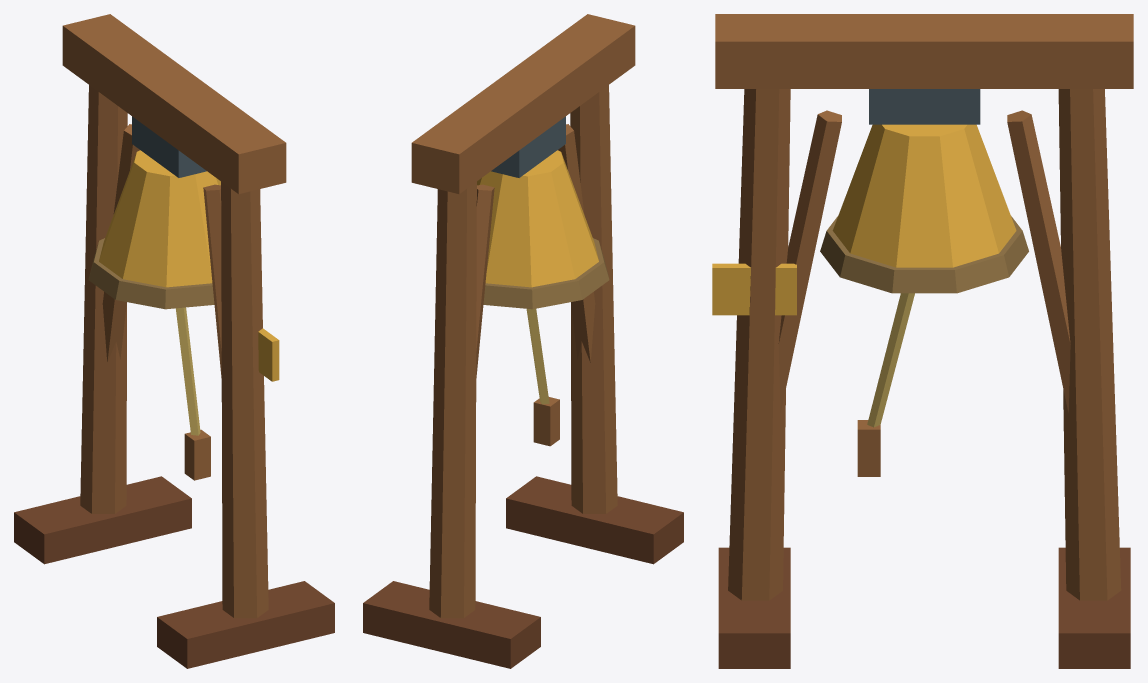
The model's file is ship_departure_bell.glb.
The picture shows the model from 3 angles, left to right: view 1: azimuth 30°, elevation 25°; view 2: azimuth 150°, elevation 25°; view 3: azimuth 270°, elevation 25°; orthographic projection. The views are drawn at different scales.
Visible parts, largest first — view 1: Bell_Post_1, Bell_Beam, Bell_Post_2, Bell_Body, Bell_Sill_1, Bell_Sill_2, Bell_Lip, Bell_Brace_2, Bell_Brace_1, Bell_Yoke, Bell_Pull, Bell_Toggle (+1 smaller); view 2: Bell_Post_2, Bell_Beam, Bell_Post_1, Bell_Body, Bell_Sill_2, Bell_Sill_1, Bell_Lip, Bell_Brace_1, Bell_Brace_2, Bell_Yoke, Bell_Toggle, Bell_Pull; view 3: Bell_Beam, Bell_Post_2, Bell_Post_1, Bell_Body, Bell_Brace_2, Bell_Sill_1, Bell_Sill_2, Bell_Lip, Bell_Brace_1, Bell_Yoke, Bell_Plaque, Bell_Pull (+1 smaller).
Boxes of the visible parts, <box> form: Bell_Post_1: <box>221,181,268,618</box>; Bell_Beam: <box>62,14,286,194</box>; Bell_Post_2: <box>80,85,127,513</box>; Bell_Body: <box>99,150,220,287</box>; Bell_Sill_1: <box>157,581,334,668</box>; Bell_Sill_2: <box>14,476,191,564</box>; Bell_Lip: <box>88,238,214,309</box>; Bell_Brace_2: <box>102,124,139,362</box>; Bell_Brace_1: <box>203,184,221,377</box>; Bell_Yoke: <box>132,116,206,177</box>; Bell_Pull: <box>175,307,200,435</box>; Bell_Toggle: <box>184,429,210,480</box>; Bell_Post_2: <box>429,181,476,618</box>; Bell_Beam: <box>411,14,635,194</box>; Bell_Post_1: <box>570,85,617,513</box>; Bell_Body: <box>477,150,598,287</box>; Bell_Sill_2: <box>363,581,540,668</box>; Bell_Sill_1: <box>506,476,683,564</box>; Bell_Lip: <box>483,238,609,309</box>; Bell_Brace_1: <box>558,124,595,362</box>; Bell_Brace_2: <box>476,184,494,377</box>; Bell_Yoke: <box>491,116,565,177</box>; Bell_Toggle: <box>533,397,559,446</box>; Bell_Pull: <box>526,308,549,404</box>; Bell_Beam: <box>715,14,1133,88</box>; Bell_Post_2: <box>1058,89,1121,600</box>; Bell_Post_1: <box>728,89,790,600</box>; Bell_Body: <box>832,124,1016,267</box>; Bell_Brace_2: <box>1007,110,1070,412</box>; Bell_Sill_1: <box>718,547,790,668</box>; Bell_Sill_2: <box>1058,547,1130,668</box>; Bell_Lip: <box>820,216,1028,293</box>; Bell_Brace_1: <box>778,110,841,412</box>; Bell_Yoke: <box>869,89,980,124</box>; Bell_Plaque: <box>712,263,796,315</box>; Bell_Pull: <box>867,293,914,427</box>.
Bounding box in the file's own units: 0.62 × 2.02 × 1.29.
